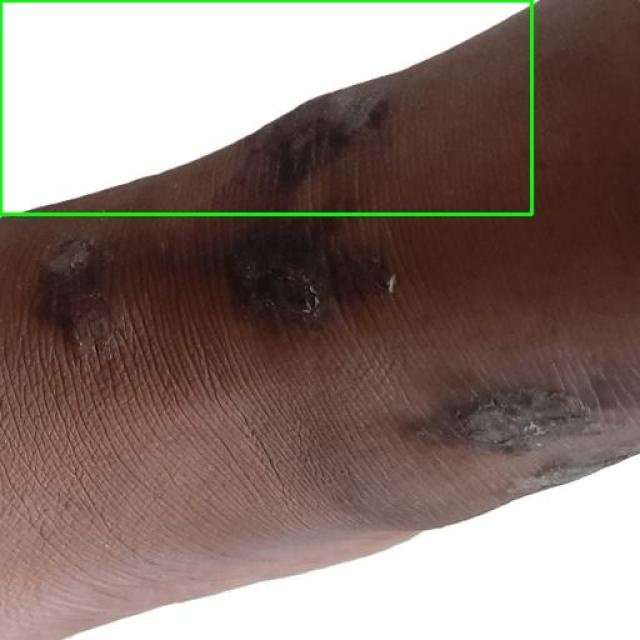Contact Dermatitis: (0, 0, 531, 214)
